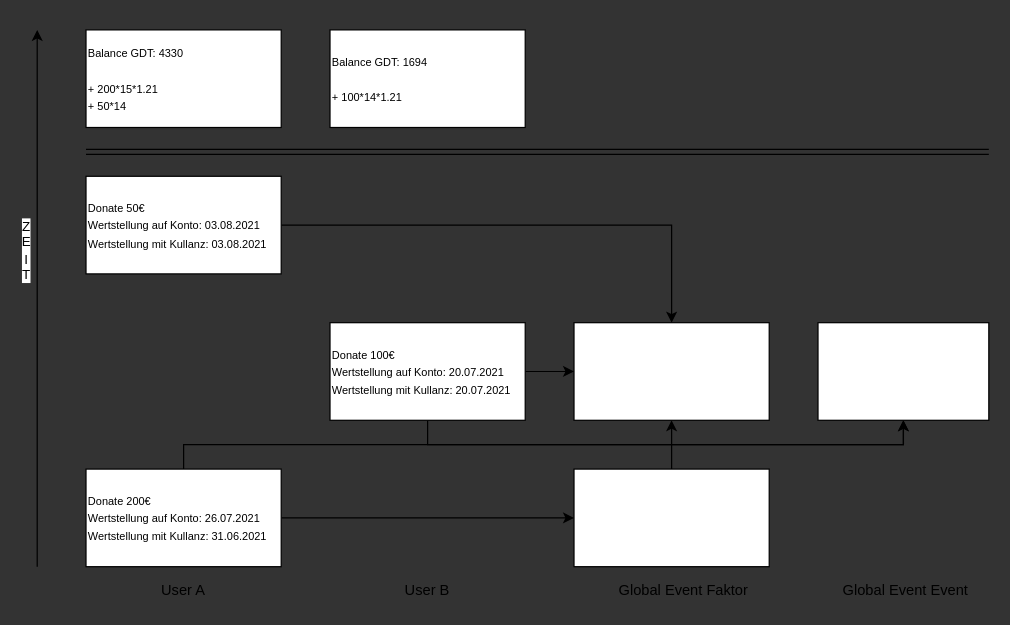
Some shapes in this 1010 by 625 pixel diagram are drawn without their labels. The shapes that lost their labels are listed below. From the top down, each one's box as (x1, y1, x2, y2) in pixels, then its label:
(573, 321, 769, 420): Faktor 14 From 01.07.2021 Till 31.09.2021
(817, 321, 989, 420): Percentage Modificator 21% Till 21.07.2021
(573, 468, 769, 567): Faktor 15 From 01.03.2021 Till 31.06.2021
